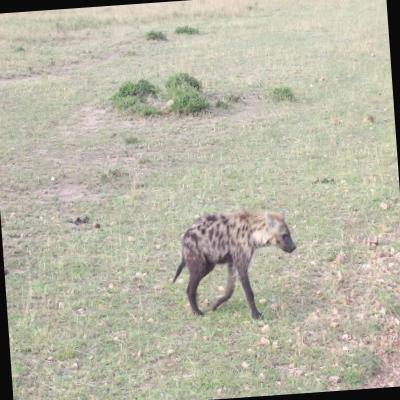hyenas: (155, 192, 312, 333)
